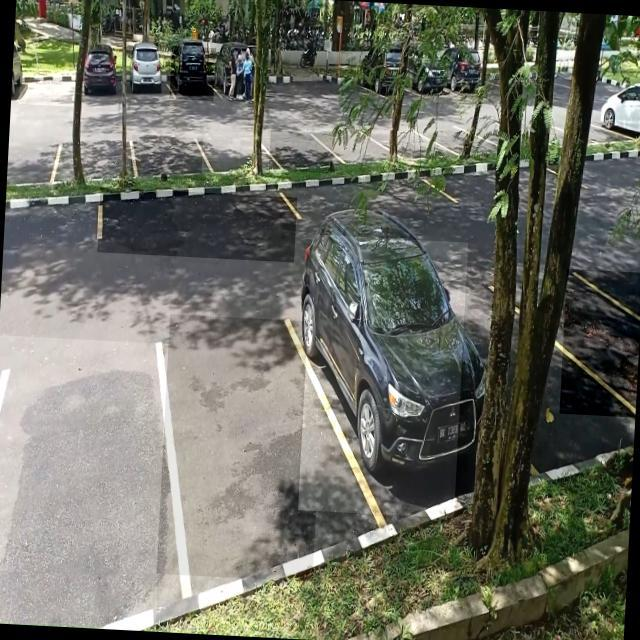empty: (0, 335, 170, 631), (157, 314, 326, 582), (98, 188, 298, 262), (559, 268, 640, 417), (52, 136, 135, 185), (130, 135, 208, 181), (202, 131, 272, 177), (340, 128, 406, 172), (269, 130, 334, 173), (19, 68, 76, 107)
occupied: (298, 234, 468, 518), (170, 46, 216, 101)
